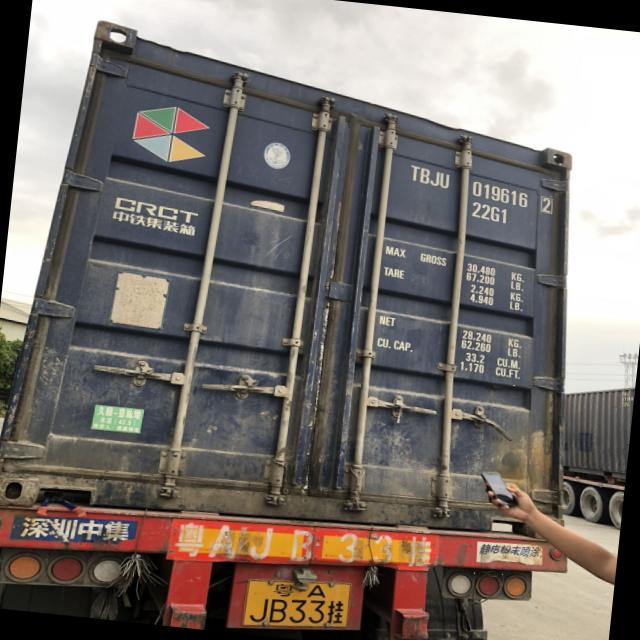seal: (389, 391, 409, 430)
